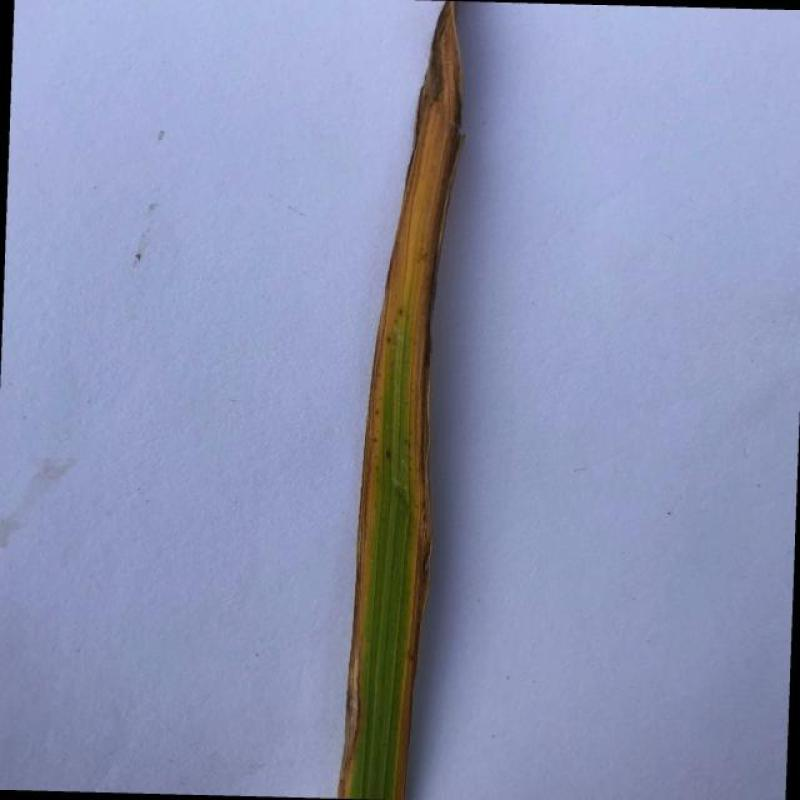Rice Tungro: (385, 0, 473, 800), (335, 346, 386, 800)
